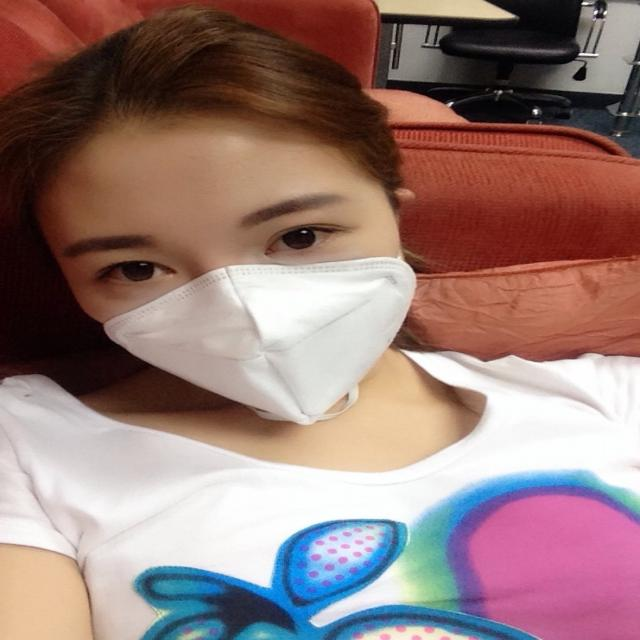mask: (81, 108, 408, 425)
